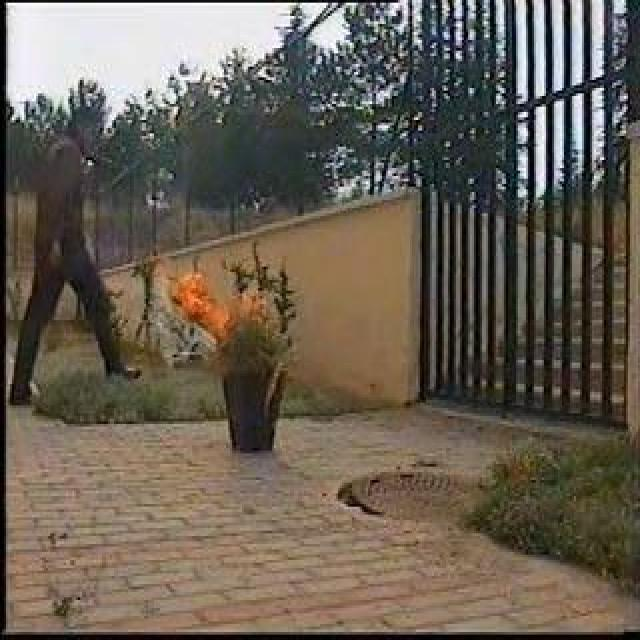fire: (174, 275, 233, 326)
